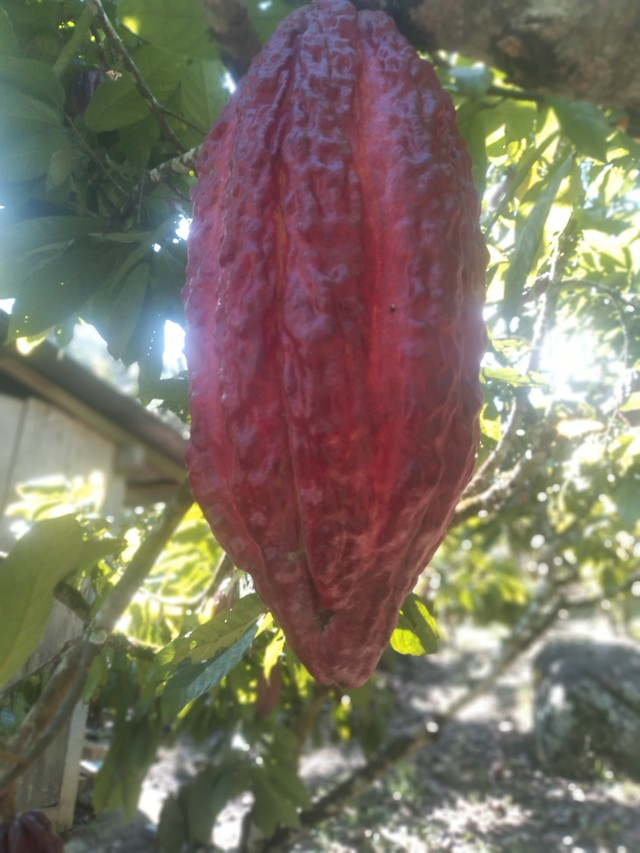Health: (175, 0, 500, 697)
